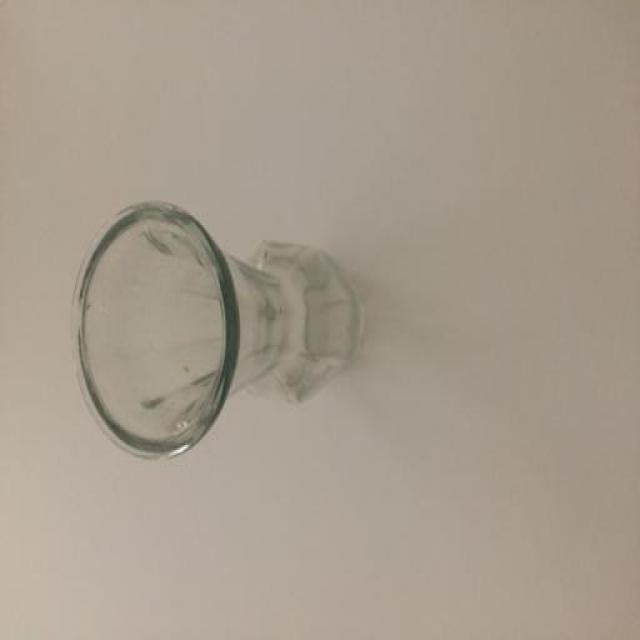Waste: (75, 203, 362, 458)
